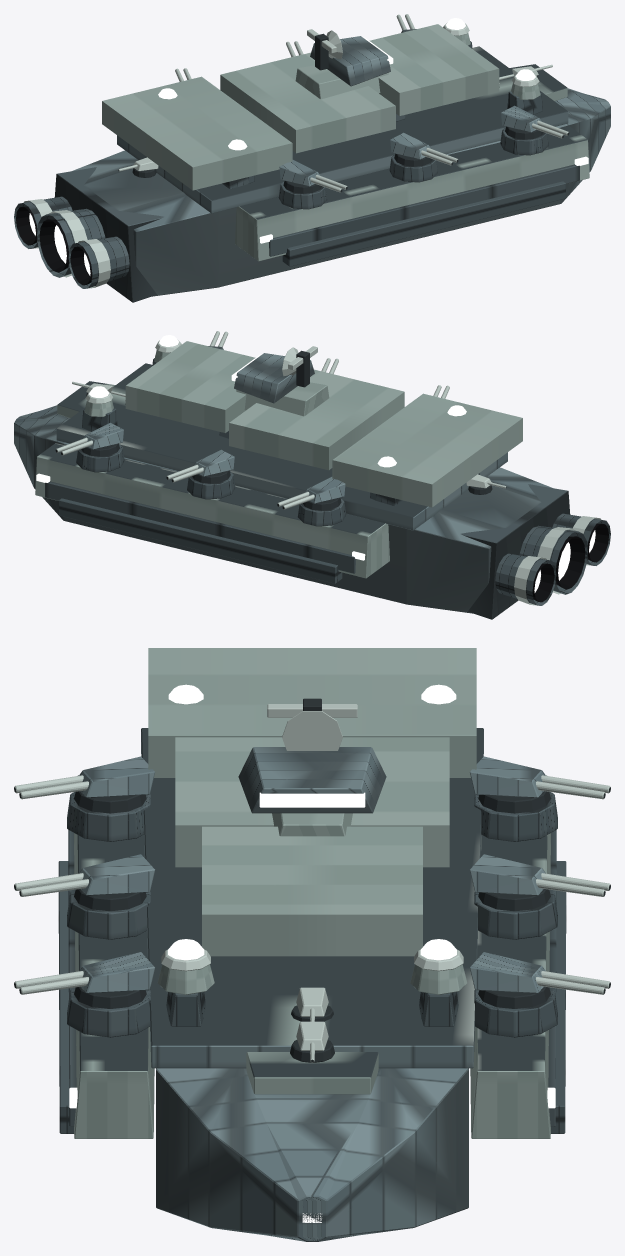
The model's file is cruiser.glb.
3 renders of one model, top to bottom at view 1: azimuth 30°, elevation 25°; view 2: azimuth 150°, elevation 25°; view 3: azimuth 270°, elevation 25°, orthographic. The views are drawn at different scales.
Visible parts, largest first — view 1: faction-buthari_cruiser; view 2: faction-buthari_cruiser; view 3: faction-buthari_cruiser.
Boxes of the visible parts, x1,y1,x2,y2 form: faction-buthari_cruiser: (14, 14, 610, 302); faction-buthari_cruiser: (14, 331, 610, 619); faction-buthari_cruiser: (14, 648, 610, 1241).
Size of the model in its own units: 42 by 13.72 by 21.67.
Materials: 1 (1 with a texture image).
